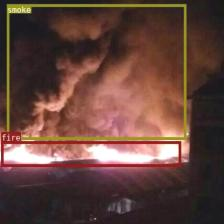fire: (0, 141, 180, 166)
smoke: (6, 4, 186, 139)
